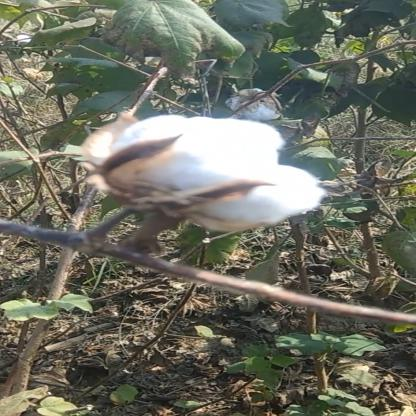cotton_ready: (61, 94, 338, 285)
